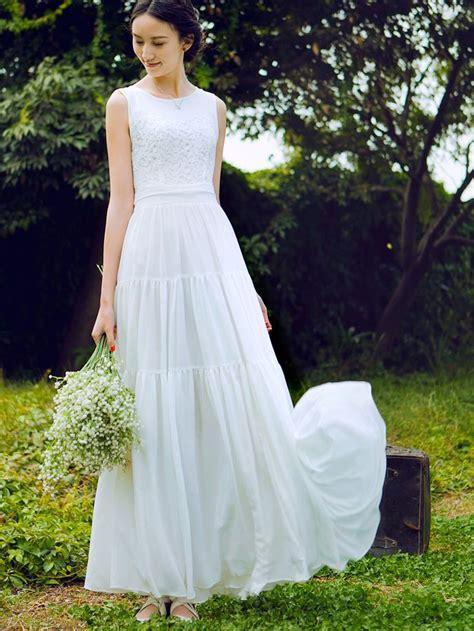dress: (85, 86, 389, 604)
